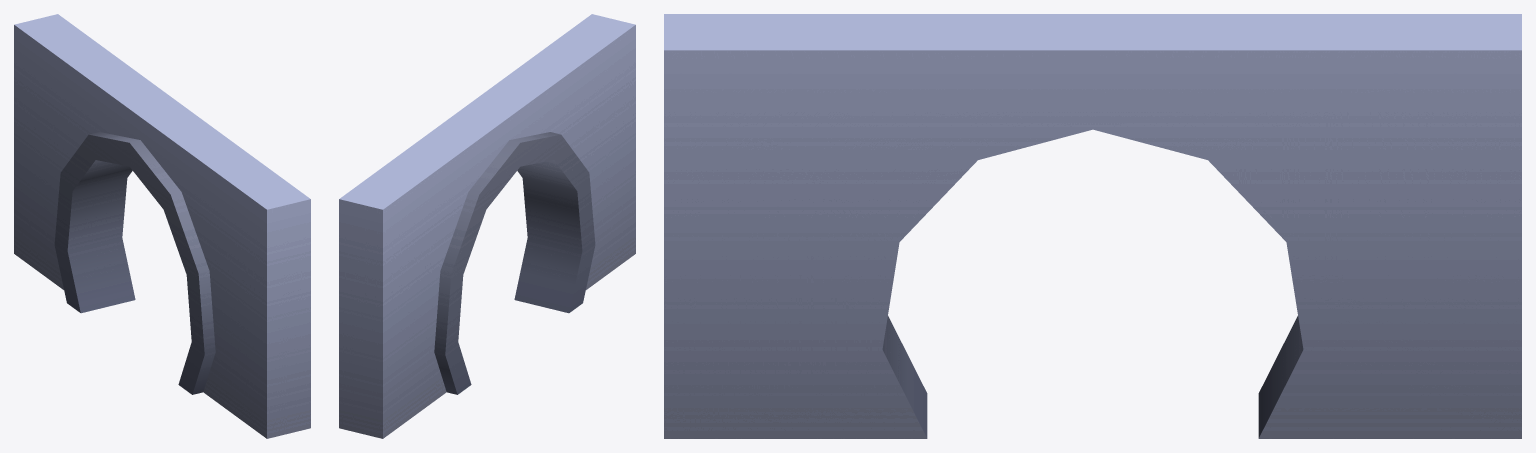
The model's file is wall-doorway-round.glb.
The picture shows the model from 3 angles, left to right: view 1: azimuth 30°, elevation 25°; view 2: azimuth 150°, elevation 25°; view 3: azimuth 270°, elevation 25°; orthographic projection. The views are drawn at different scales.
Visible parts, largest first — view 1: wall-doorway-round; view 2: wall-doorway-round; view 3: wall-doorway-round.
Part boxes in pixels (box(x1,y1,x2,y2)): wall-doorway-round: box(14, 14, 310, 438); wall-doorway-round: box(339, 14, 635, 438); wall-doorway-round: box(664, 14, 1521, 438).
Bounding box in the file's own units: 0.25 × 1 × 2.
Materials: 1 (1 with a texture image).
